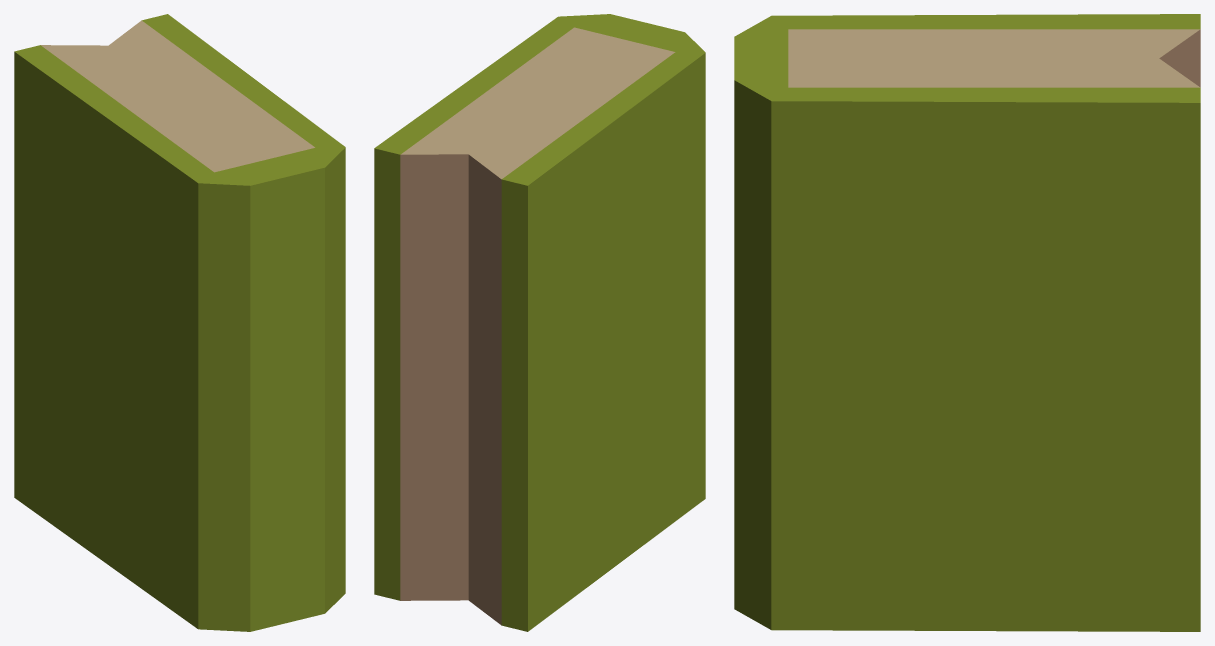
Rendered from TB_D_Prop_Book_Small_B.FBX.
3 renders of one model, left to right at view 1: azimuth 30°, elevation 25°; view 2: azimuth 150°, elevation 25°; view 3: azimuth 270°, elevation 25°, orthographic. The views are drawn at different scales.
Visible parts, largest first — view 1: TB_D_Prop_Book_Small_B; view 2: TB_D_Prop_Book_Small_B; view 3: TB_D_Prop_Book_Small_B.
Part boxes in pixels (<box>): TB_D_Prop_Book_Small_B: <box>14,14,345,631</box>; TB_D_Prop_Book_Small_B: <box>374,14,705,631</box>; TB_D_Prop_Book_Small_B: <box>734,14,1200,631</box>.
Size of the model in its own units: 0.182 by 0.5049 by 0.4035.
